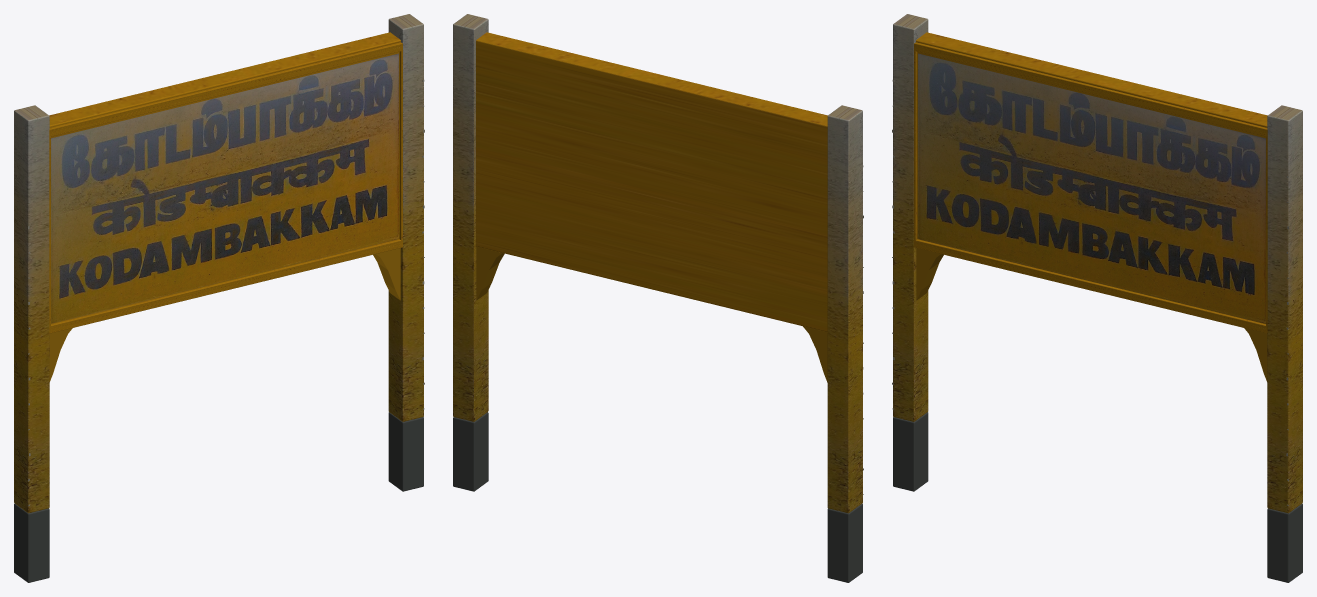
The model's file is kodambakkam-station-sign.glb.
3 renders of one model, left to right at view 1: azimuth 30°, elevation 25°; view 2: azimuth 150°, elevation 25°; view 3: azimuth 330°, elevation 25°, orthographic.
Visible parts, largest first — view 1: Station sign / Photographed Tamil Hindi English lettering | , Station sign / Photo-projected weathered yellow upright, Station sign / Aged ochre yellow concrete, Station sign / Weathered matte black painted post feet; view 2: Station sign / Aged ochre yellow concrete, Station sign / Photo-projected weathered yellow upright, Station sign / Weathered matte black painted post feet; view 3: Station sign / Photographed Tamil Hindi English lettering | , Station sign / Photo-projected weathered yellow upright, Station sign / Aged ochre yellow concrete, Station sign / Weathered matte black painted post feet.
Part boxes in pixels (x1,y1,x2,y2): Station sign / Photographed Tamil Hindi English lettering | : (51, 53, 398, 323); Station sign / Photo-projected weathered yellow upright: (14, 14, 423, 513); Station sign / Aged ochre yellow concrete: (49, 32, 402, 381); Station sign / Weathered matte black painted post feet: (14, 412, 423, 582); Station sign / Aged ochre yellow concrete: (476, 32, 827, 382); Station sign / Photo-projected weathered yellow upright: (453, 14, 862, 513); Station sign / Weathered matte black painted post feet: (453, 412, 862, 582); Station sign / Photographed Tamil Hindi English lettering | : (918, 53, 1265, 323); Station sign / Photo-projected weathered yellow upright: (893, 14, 1302, 513); Station sign / Aged ochre yellow concrete: (914, 32, 1267, 381); Station sign / Weathered matte black painted post feet: (893, 412, 1302, 582).
Size of the model in its own units: 3.45 by 3.85 by 0.223.
5 materials, 3 textured.
